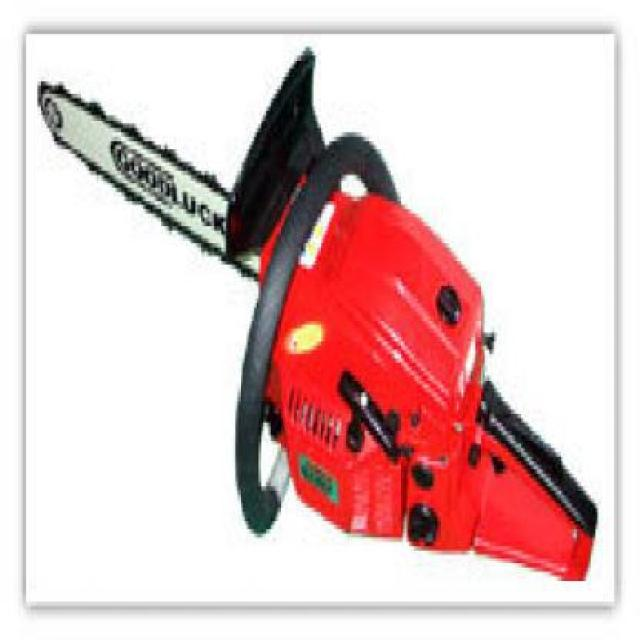Chainsaw: (12, 34, 608, 577)
